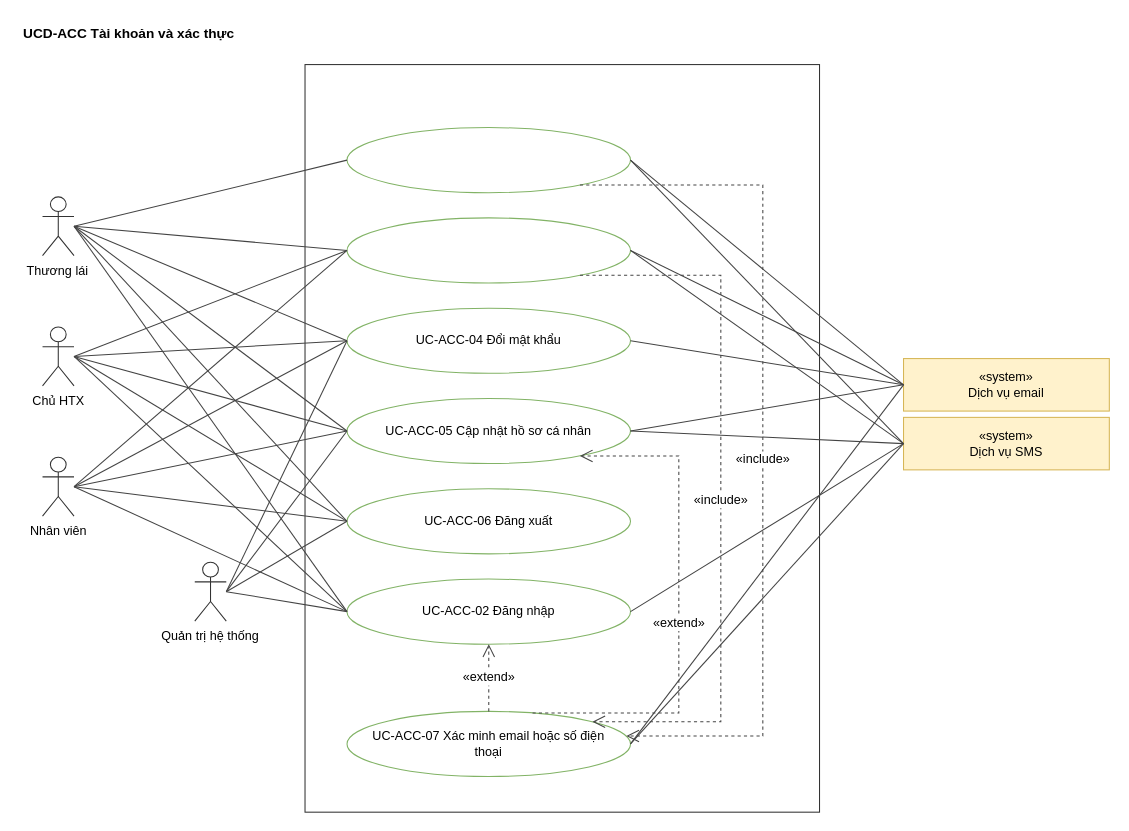
This 1129x831 diagram has some shape labels left out. The box of each missing label's shape, as (x1, y1, x2, y2) in pixels:
OMTS: (304, 64, 820, 812)
UC-ACC-01 Đăng ký tài khoản thương lái: (346, 127, 631, 193)
UC-ACC-03 Khôi phục mật khẩu: (346, 217, 631, 283)
